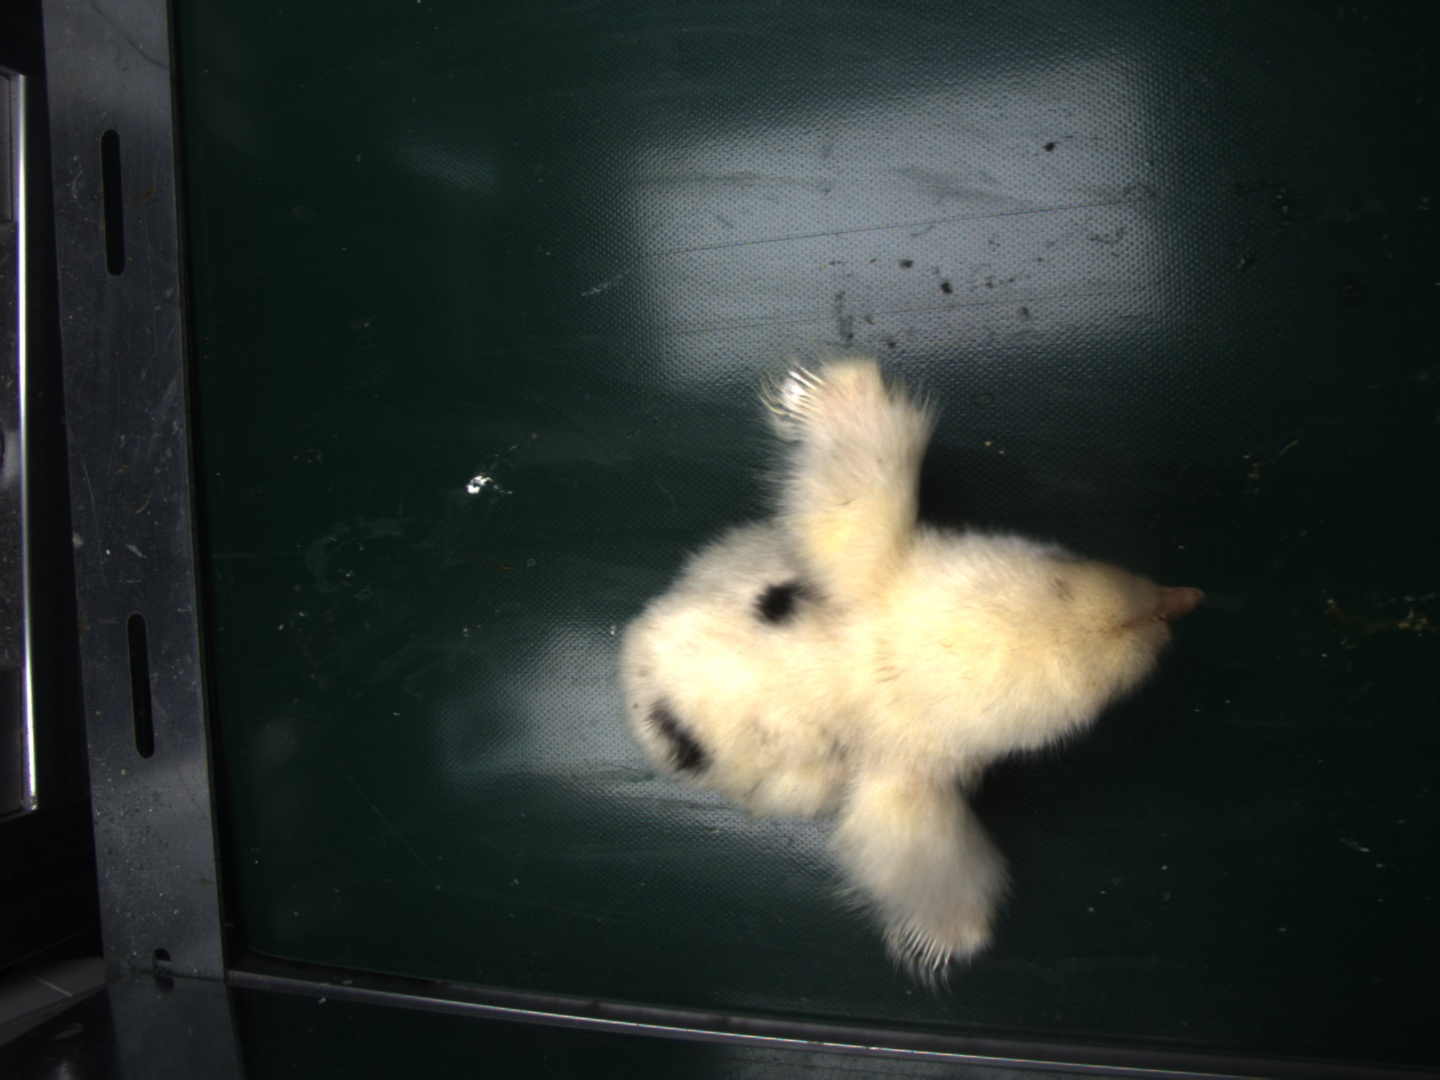male: (892, 919, 954, 970)
